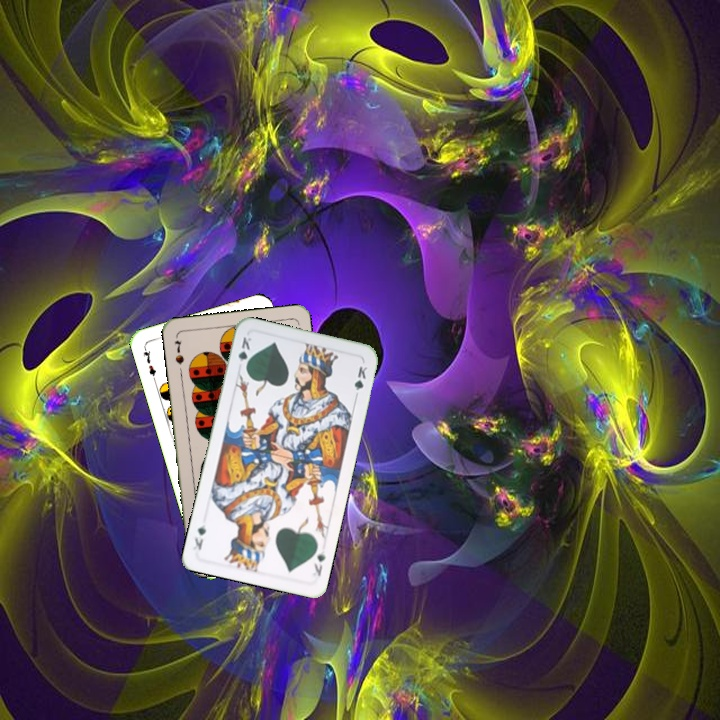E7: (139, 343, 159, 383)
GK: (234, 333, 255, 373), (308, 547, 328, 579)
S7: (171, 336, 187, 367)
